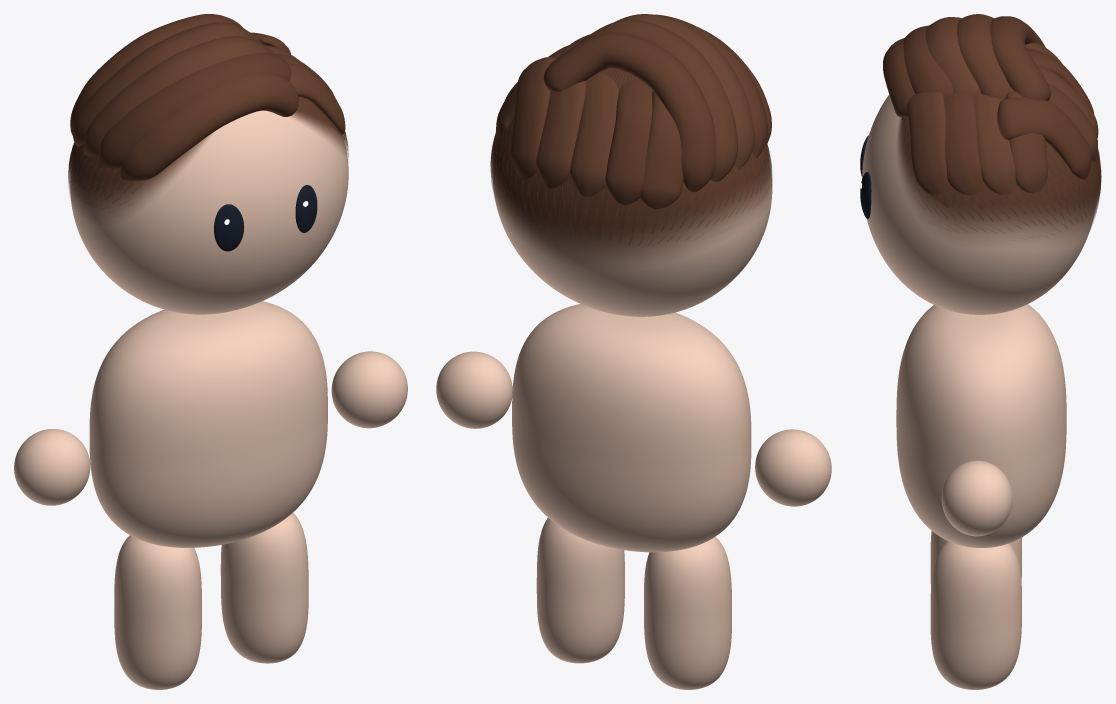
Rendered from Taper-skin0.glb.
3 views of the same model, side by side, from view 1: azimuth 30°, elevation 25°; view 2: azimuth 150°, elevation 25°; view 3: azimuth 270°, elevation 25° (orthographic). The views are drawn at different scales.
Parts seen in each view (by area): view 1: Skin / compact torso, Skin / soft oval head, Skin / leg -1, Skin / leg 1, Hair / Taper top 0, Hair / Taper top 1, Hair / Taper short sides, Hair / Taper top 2, Skin / hand 1, Skin / hand -1, Hair / Taper top 3, Hair / Taper top 4 (+4 smaller); view 2: Skin / compact torso, Skin / soft oval head, Hair / Taper short sides, Skin / leg -1, Skin / leg 1, Hair / Taper top 4, Skin / hand 1, Skin / hand -1, Hair / Taper top 3, Hair / Taper crown 1, Hair / Taper crown 2, Hair / Taper crown 3 (+6 smaller); view 3: Skin / compact torso, Skin / soft oval head, Skin / leg 1, Hair / Taper short sides, Skin / hand 1, Hair / Taper crown 4, Hair / Taper short sweep 0, Hair / Taper short sweep 1, Hair / Taper top 4, Hair / Taper short sweep 2, Hair / Taper top 3, Hair / Taper top 2 (+9 smaller).
Part boxes in pixels (x1,y1,x2,y2): Skin / compact torso: [89, 301, 327, 547]; Skin / soft oval head: [70, 110, 348, 314]; Skin / leg -1: [114, 535, 201, 689]; Skin / leg 1: [220, 512, 308, 663]; Hair / Taper top 0: [120, 74, 298, 181]; Hair / Taper top 1: [98, 52, 291, 169]; Hair / Taper short sides: [68, 96, 348, 218]; Hair / Taper top 2: [83, 36, 274, 156]; Skin / hand 1: [331, 351, 407, 428]; Skin / hand -1: [14, 429, 90, 505]; Hair / Taper top 3: [72, 22, 261, 146]; Hair / Taper top 4: [70, 14, 242, 135]; Skin / compact torso: [512, 304, 751, 552]; Skin / soft oval head: [493, 165, 772, 316]; Hair / Taper short sides: [491, 68, 772, 263]; Skin / leg -1: [644, 536, 731, 689]; Skin / leg 1: [536, 518, 624, 663]; Hair / Taper top 4: [543, 32, 715, 192]; Skin / hand 1: [436, 351, 512, 428]; Skin / hand -1: [755, 429, 831, 506]; Hair / Taper top 3: [578, 19, 738, 182]; Hair / Taper crown 1: [605, 78, 652, 205]; Hair / Taper crown 2: [570, 72, 618, 196]; Hair / Taper crown 3: [536, 80, 586, 188]; Skin / compact torso: [896, 304, 1066, 547]; Skin / soft oval head: [862, 95, 1095, 314]; Skin / leg 1: [930, 541, 1021, 689]; Hair / Taper short sides: [897, 117, 1101, 241]; Skin / hand 1: [941, 460, 1012, 536]; Hair / Taper crown 4: [997, 97, 1091, 179]; Hair / Taper short sweep 0: [907, 92, 949, 194]; Hair / Taper short sweep 1: [944, 93, 983, 195]; Hair / Taper top 4: [990, 16, 1050, 100]; Hair / Taper short sweep 2: [974, 93, 1016, 194]; Hair / Taper top 3: [957, 14, 1010, 99]; Hair / Taper top 2: [925, 17, 980, 97].
Size of the model in its own units: 1.49 by 2.38 by 0.8289.
